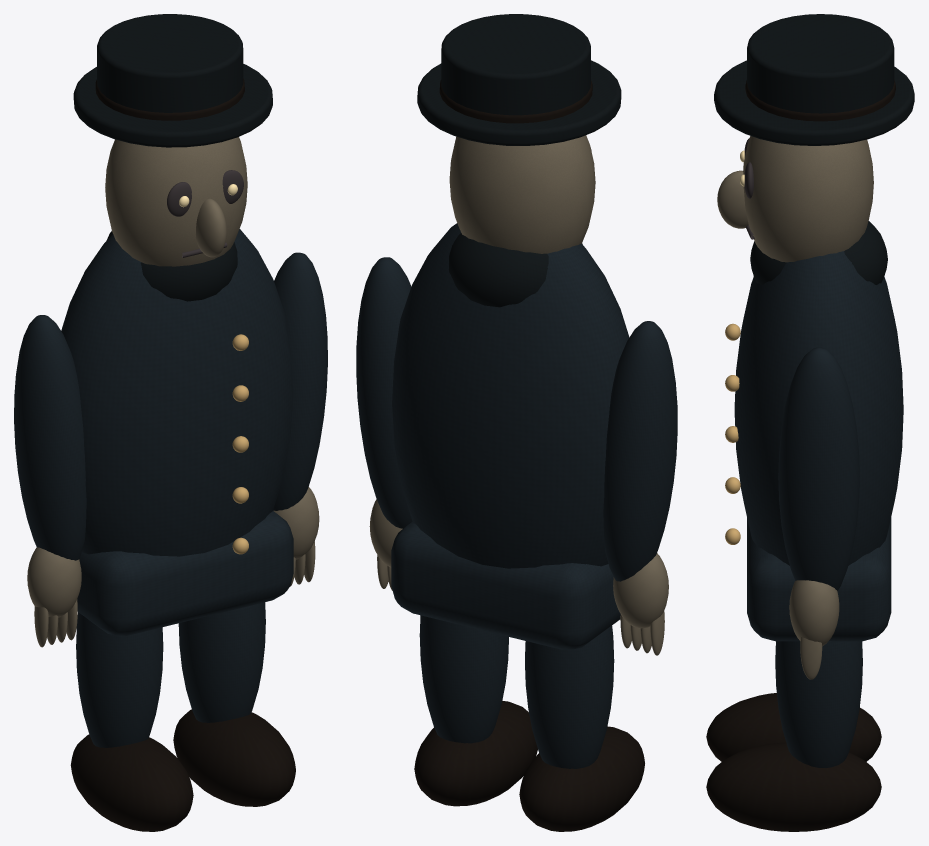
Rendered from warden3d.glb.
3 renders of one model, left to right at view 1: azimuth 30°, elevation 25°; view 2: azimuth 150°, elevation 25°; view 3: azimuth 270°, elevation 25°, orthographic. The views are drawn at different scales.
Parts seen in each view (by area): view 1: coat body, coat hem, warden_arm, head, hat crown, warden_leg, warden_arm.001, warden_boot, warden_boot.001, warden_leg.001, hat brim, high collar (+5 smaller); view 2: coat body, coat hem, warden_arm, head, hat crown, warden_leg, warden_arm.001, warden_leg.001, warden_boot, warden_boot.001, hat brim, high collar (+3 smaller); view 3: coat body, warden_arm.001, head, hat crown, warden_boot.001, warden_leg.001, coat hem, hat brim, warden_boot, warden_hand.001, high collar, hat band (+2 smaller).
Boxes of the visible parts, x1=… form: coat body: x1=61, y1=229, x2=292, y2=556; coat hem: x1=77, y1=511, x2=293, y2=635; warden_arm: x1=14, y1=315, x2=86, y2=560; head: x1=105, y1=137, x2=247, y2=266; hat crown: x1=97, y1=14, x2=243, y2=112; warden_leg: x1=76, y1=612, x2=163, y2=747; warden_arm.001: x1=273, y1=252, x2=327, y2=510; warden_boot: x1=70, y1=734, x2=193, y2=831; warden_boot.001: x1=173, y1=709, x2=295, y2=806; warden_leg.001: x1=178, y1=602, x2=265, y2=722; hat brim: x1=73, y1=64, x2=272, y2=147; high collar: x1=106, y1=231, x2=237, y2=301; coat body: x1=392, y1=223, x2=629, y2=568; coat hem: x1=391, y1=522, x2=620, y2=649; warden_arm: x1=603, y1=321, x2=677, y2=581; head: x1=449, y1=135, x2=595, y2=253; hat crown: x1=441, y1=14, x2=590, y2=115; warden_leg: x1=525, y1=626, x2=614, y2=768; warden_arm.001: x1=356, y1=257, x2=412, y2=528; warden_leg.001: x1=419, y1=615, x2=508, y2=743; warden_boot: x1=519, y1=726, x2=644, y2=831; warden_boot.001: x1=414, y1=700, x2=537, y2=806; hat brim: x1=417, y1=60, x2=621, y2=145; high collar: x1=449, y1=233, x2=582, y2=307; coat body: x1=734, y1=251, x2=903, y2=565; warden_arm.001: x1=778, y1=347, x2=859, y2=590; head: x1=743, y1=136, x2=873, y2=262; hat crown: x1=747, y1=14, x2=894, y2=113; warden_boot.001: x1=706, y1=742, x2=881, y2=831; warden_leg.001: x1=775, y1=640, x2=862, y2=767; coat hem: x1=747, y1=517, x2=891, y2=641; hat brim: x1=714, y1=60, x2=914, y2=145; warden_boot: x1=706, y1=693, x2=881, y2=761; warden_hand.001: x1=789, y1=580, x2=839, y2=646; high collar: x1=750, y1=221, x2=887, y2=284; hat band: x1=745, y1=80, x2=895, y2=121.
Size of the model in its own units: 1.12 by 2.67 by 0.665.
Materials: 7 (4 with a texture image).
